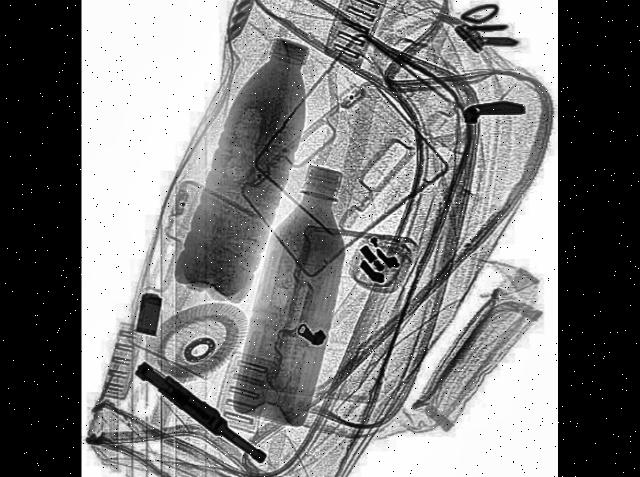Gun: (138, 354, 272, 467)
